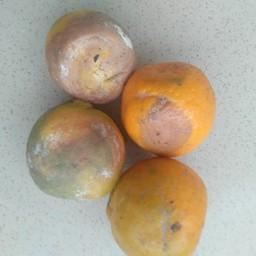Bad_orange: (108, 159, 212, 255), (26, 103, 124, 200), (43, 8, 136, 105), (125, 57, 215, 156)
